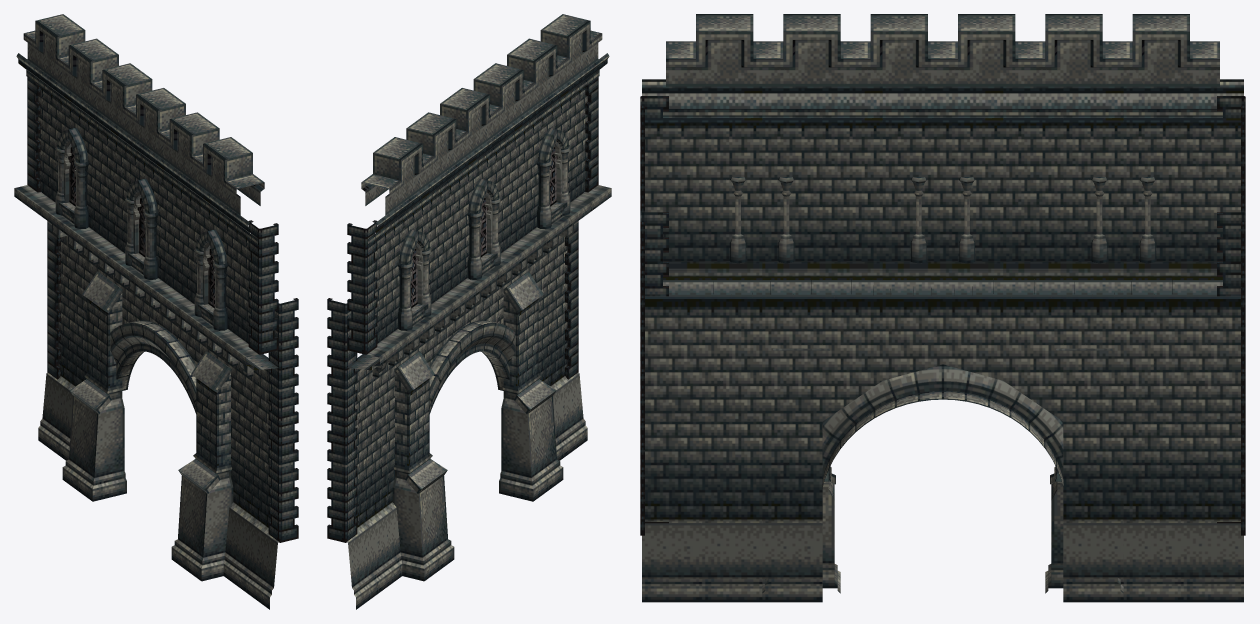
File: EnvBdgMD_Castle_Rain_A_Enter_A.FBX
3 renders of one model, left to right at view 1: azimuth 30°, elevation 25°; view 2: azimuth 150°, elevation 25°; view 3: azimuth 270°, elevation 25°, orthographic. The views are drawn at different scales.
Visible parts, largest first — view 1: EnvBdgMD_Castle_Rain_A_Enter_A; view 2: EnvBdgMD_Castle_Rain_A_Enter_A; view 3: EnvBdgMD_Castle_Rain_A_Enter_A.
Part boxes in pixels (x1=…): EnvBdgMD_Castle_Rain_A_Enter_A: x1=14, y1=14, x2=298, y2=609; EnvBdgMD_Castle_Rain_A_Enter_A: x1=327, y1=14, x2=611, y2=609; EnvBdgMD_Castle_Rain_A_Enter_A: x1=640, y1=14, x2=1245, y2=602.
Bounding box in the file's own units: 130 × 1050 × 1005.
